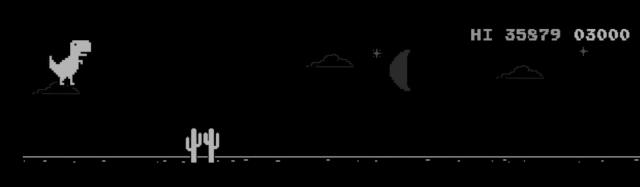cactus: (187, 129, 202, 162), (204, 129, 219, 162)
cloud: (33, 82, 79, 94), (497, 66, 543, 78), (307, 55, 353, 67)
dinosaur: (50, 40, 91, 85)
moon: (390, 50, 410, 91)
star: (373, 49, 381, 58), (580, 48, 588, 56)
